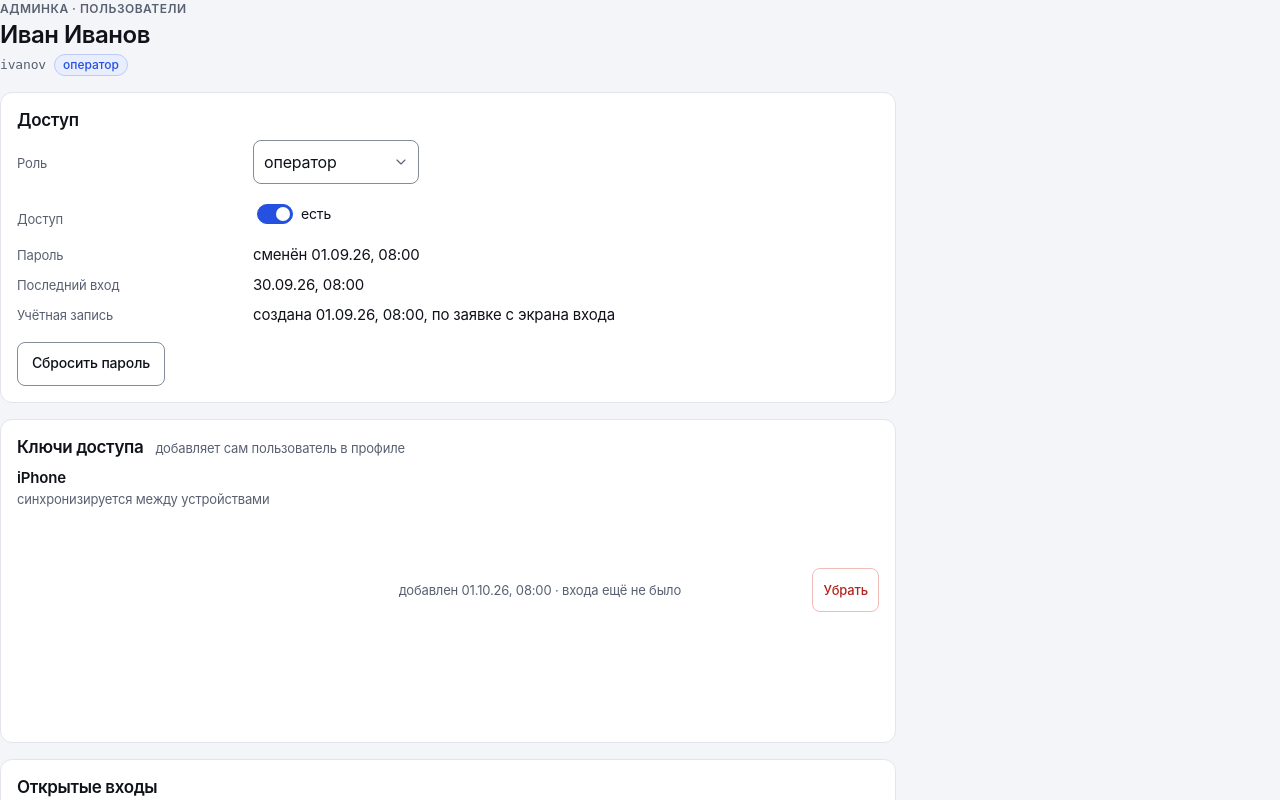
Test: страница пользователя › доступ, ключи, входы и журнал этого пользователя; ключ убирается после подтверждения
The image size is (1280, 800).
Check: the heading "Иван Иванов" is shown, box [0,20,150,49]
Check: the dropdown named "Роль: Иван Иванов" shows "оператор", box [253,140,419,184]
Click the button named "Убрать «iPhone»" at coordinates (846, 590), box [812,568,879,612]
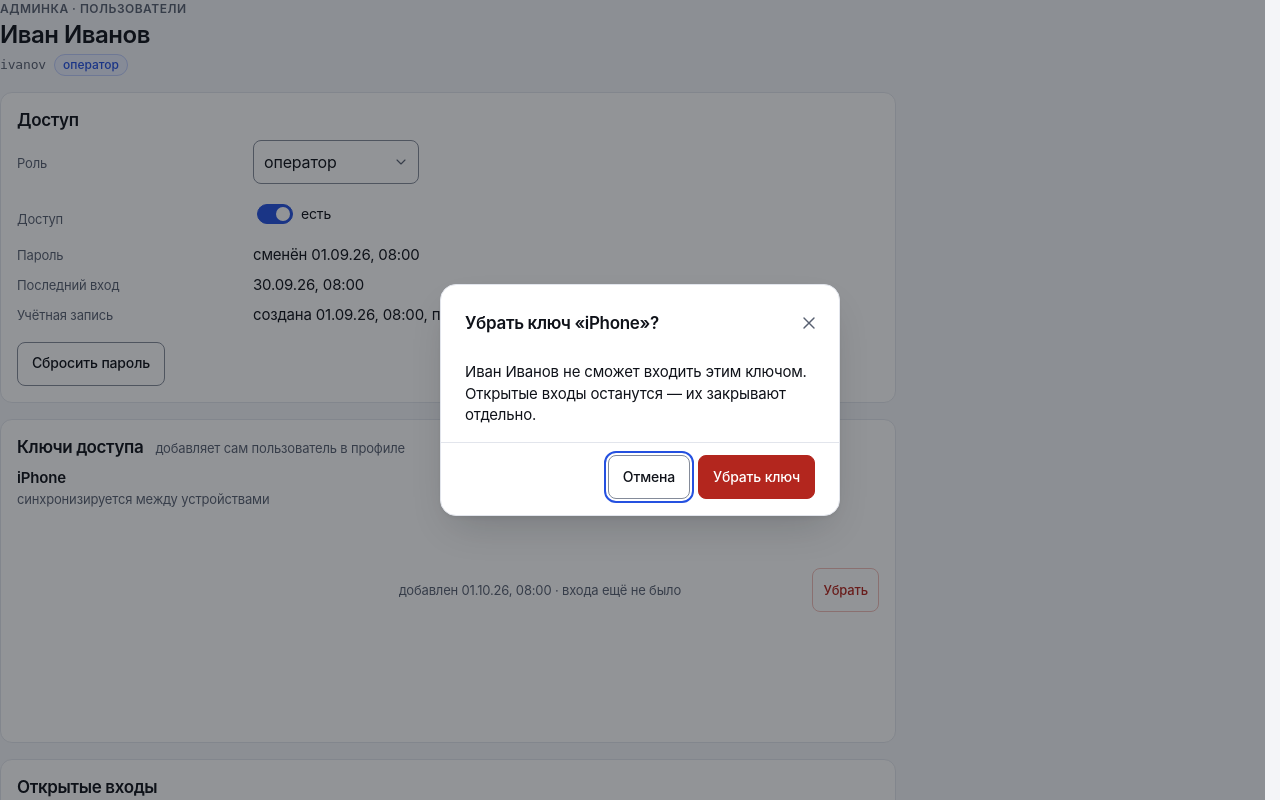
Click the button "Убрать ключ" at coordinates (756, 477), box [698,455,815,499]
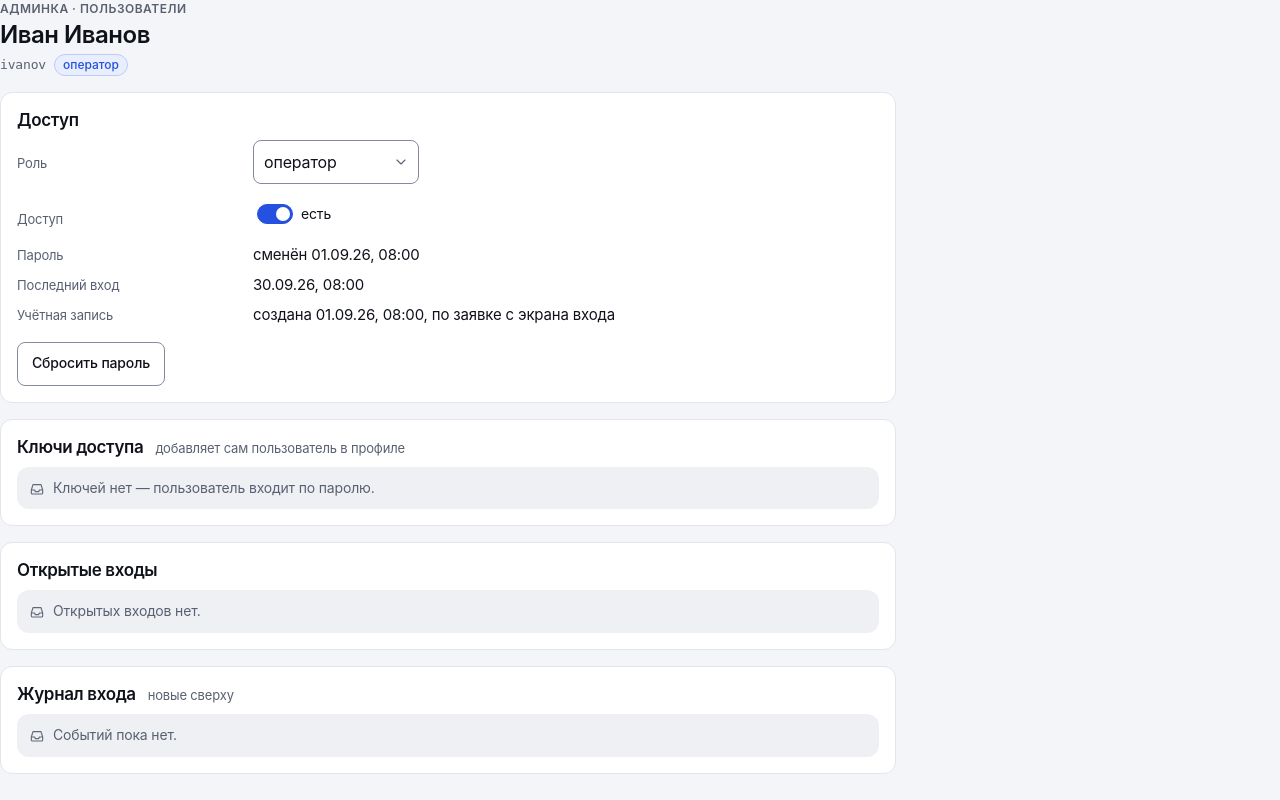
Check: the text "Ключей нет — пользователь входит по паролю." is shown, box [53,478,375,497]
